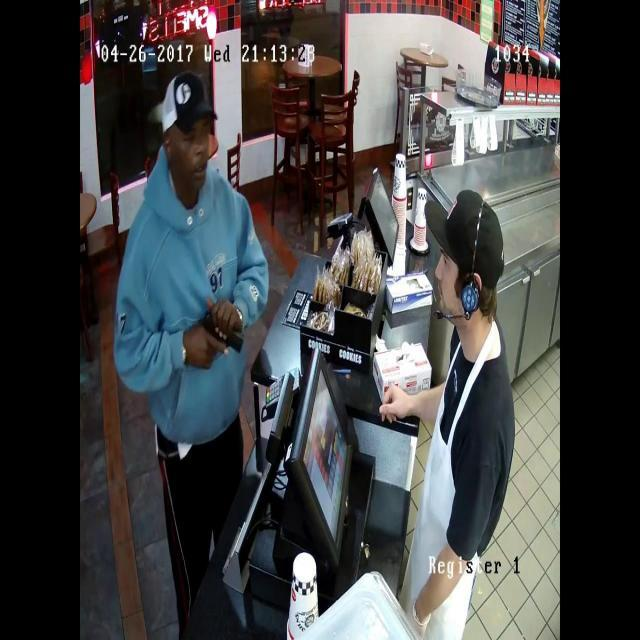weapon: (184, 298, 252, 368)
